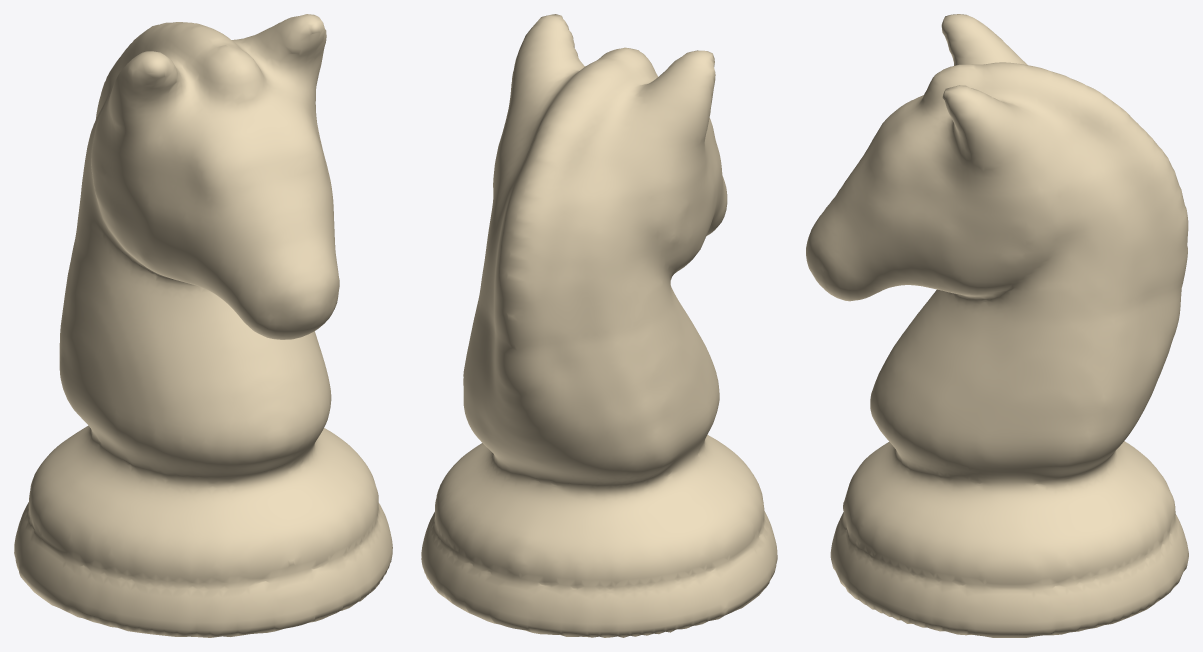
The model's file is KFB_Chess_knight_light.r1.glb.
The picture shows the model from 3 angles, left to right: view 1: azimuth 30°, elevation 25°; view 2: azimuth 150°, elevation 25°; view 3: azimuth 270°, elevation 25°; orthographic projection. The views are drawn at different scales.
Visible parts, largest first — view 1: KFB_Chess_knight_light; view 2: KFB_Chess_knight_light; view 3: KFB_Chess_knight_light.
Boxes of the visible parts, <box> form: KFB_Chess_knight_light: <box>14,14,392,637</box>; KFB_Chess_knight_light: <box>421,14,777,637</box>; KFB_Chess_knight_light: <box>806,14,1188,637</box>.
Size of the model in its own units: 2.79 by 4.44 by 3.01.
